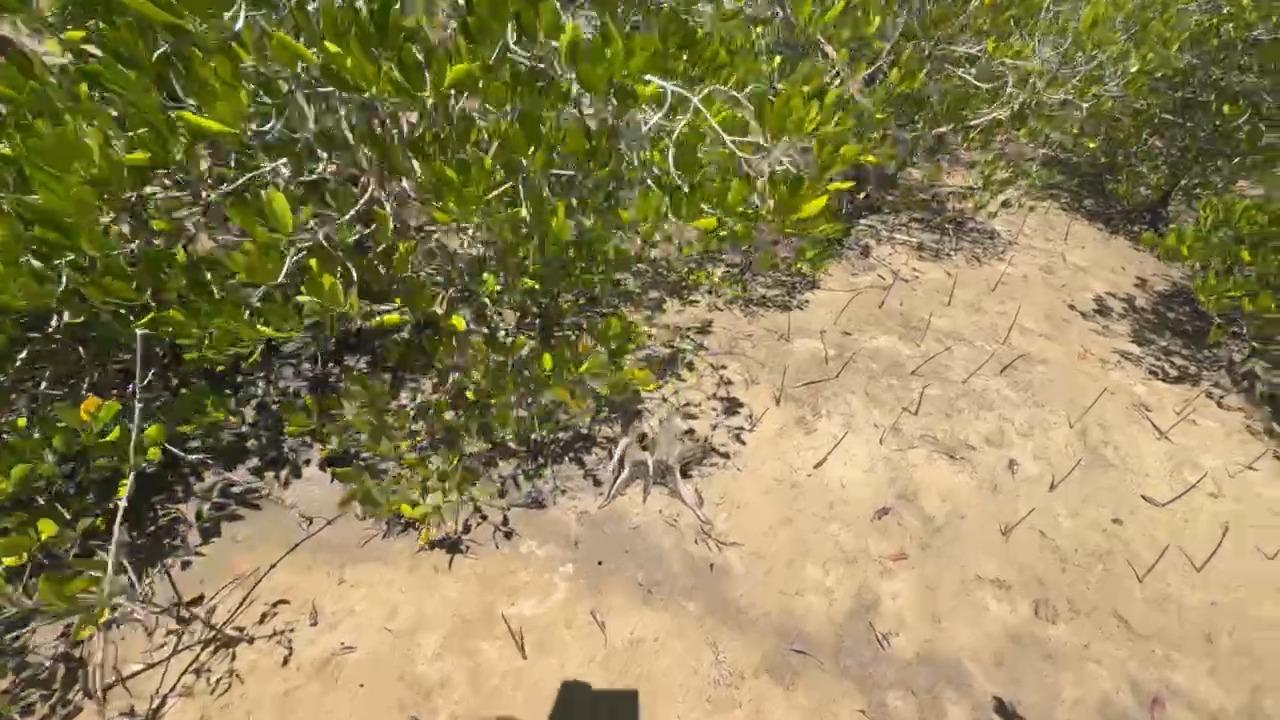Tree: (1161, 471, 1208, 507), (1198, 521, 1229, 573), (1070, 386, 1107, 428), (813, 430, 848, 469), (1156, 407, 1197, 440), (501, 611, 528, 660), (1139, 544, 1170, 583), (1048, 458, 1082, 493), (910, 346, 951, 375), (961, 352, 995, 385), (833, 292, 863, 325), (1003, 507, 1036, 536), (991, 254, 1015, 292), (878, 270, 900, 308), (1001, 304, 1021, 344), (1177, 389, 1206, 415), (589, 609, 607, 648), (1015, 206, 1036, 239), (787, 648, 823, 666), (914, 383, 932, 416), (868, 620, 886, 651), (835, 352, 856, 378), (1000, 354, 1027, 374), (776, 365, 788, 407), (749, 407, 769, 432), (919, 312, 932, 346), (1246, 448, 1269, 467), (947, 271, 959, 306), (819, 330, 829, 366), (1064, 216, 1074, 241), (1044, 200, 1053, 215), (787, 312, 791, 340), (1272, 549, 1280, 560)
